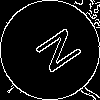N: (25, 25, 84, 81)
